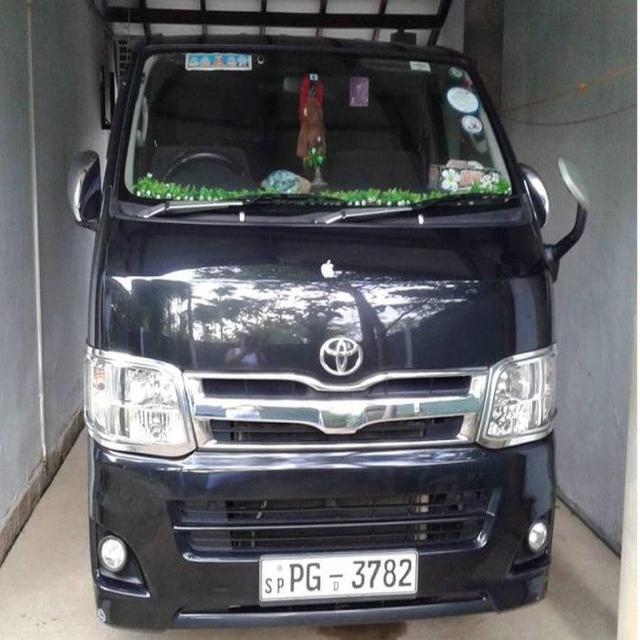license-plate: (260, 551, 418, 595)
